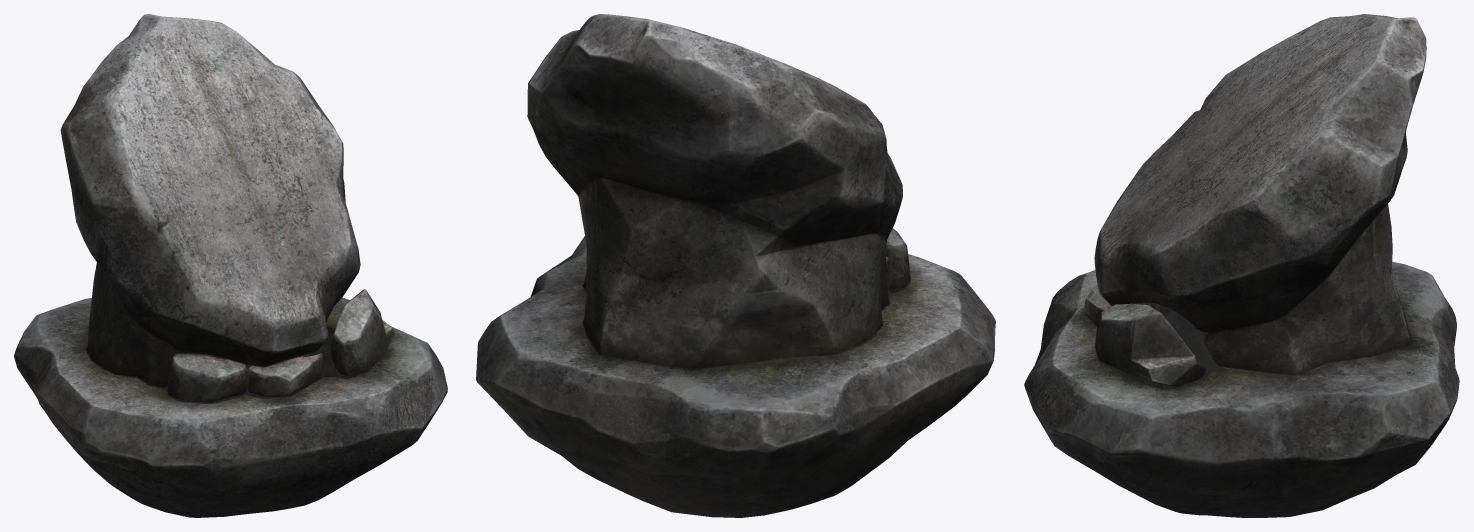
3 renders of one model, left to right at view 1: azimuth 30°, elevation 25°; view 2: azimuth 150°, elevation 25°; view 3: azimuth 270°, elevation 25°, orthographic. The views are drawn at different scales.
Visible parts, largest first — view 1: SM_Rune_Altar_01_LOD0; view 2: SM_Rune_Altar_01_LOD0; view 3: SM_Rune_Altar_01_LOD0.
Part boxes in pixels (x1,y1,x2,y2): SM_Rune_Altar_01_LOD0: [14, 14, 447, 517]; SM_Rune_Altar_01_LOD0: [476, 14, 995, 517]; SM_Rune_Altar_01_LOD0: [1024, 14, 1459, 517].
Size of the model in its own units: 2.27 by 2.73 by 2.23.
Materials: 1 (1 with a texture image).
